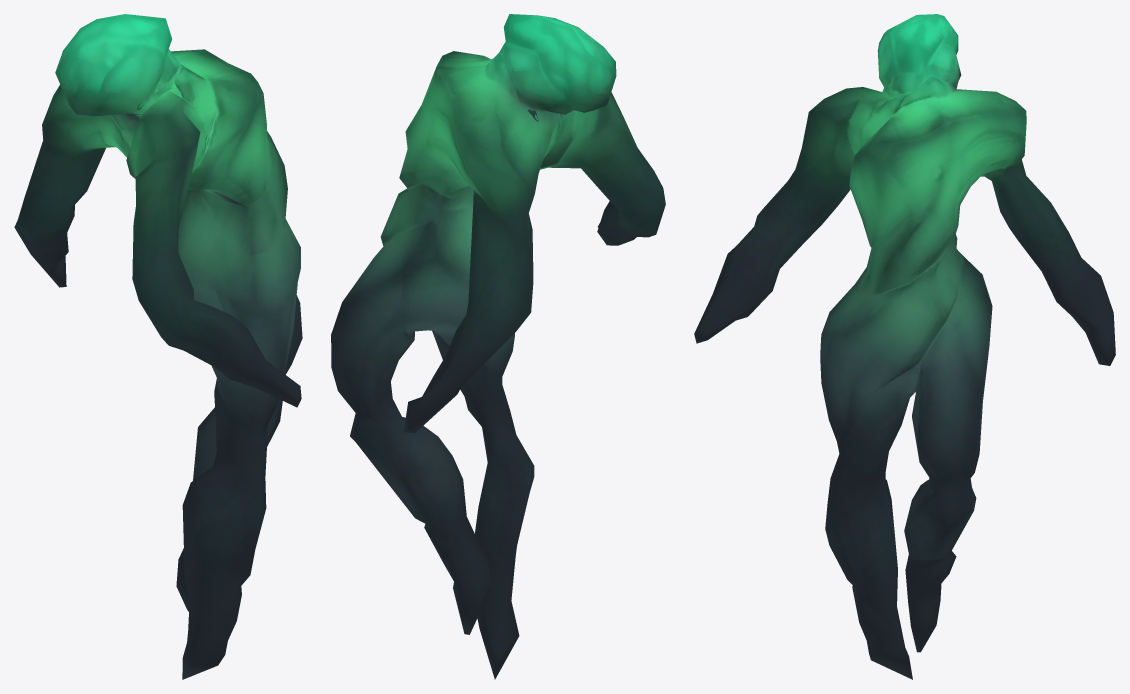
File: sage_ult.glb
3 renders of one model, left to right at view 1: azimuth 30°, elevation 25°; view 2: azimuth 150°, elevation 25°; view 3: azimuth 270°, elevation 25°, orthographic. The views are drawn at different scales.
Parts seen in each view (by area): view 1: AB_Thorne_S0_X_Body.mo; view 2: AB_Thorne_S0_X_Body.mo; view 3: AB_Thorne_S0_X_Body.mo.
Boxes of the visible parts, left/top/right/bottom form: AB_Thorne_S0_X_Body.mo: left=14, top=14, right=302, bottom=679; AB_Thorne_S0_X_Body.mo: left=331, top=14, right=665, bottom=679; AB_Thorne_S0_X_Body.mo: left=694, top=14, right=1115, bottom=679.
Size of the model in its own units: 0.8675 by 2.31 by 1.39.
Materials: 1 (1 with a texture image).
